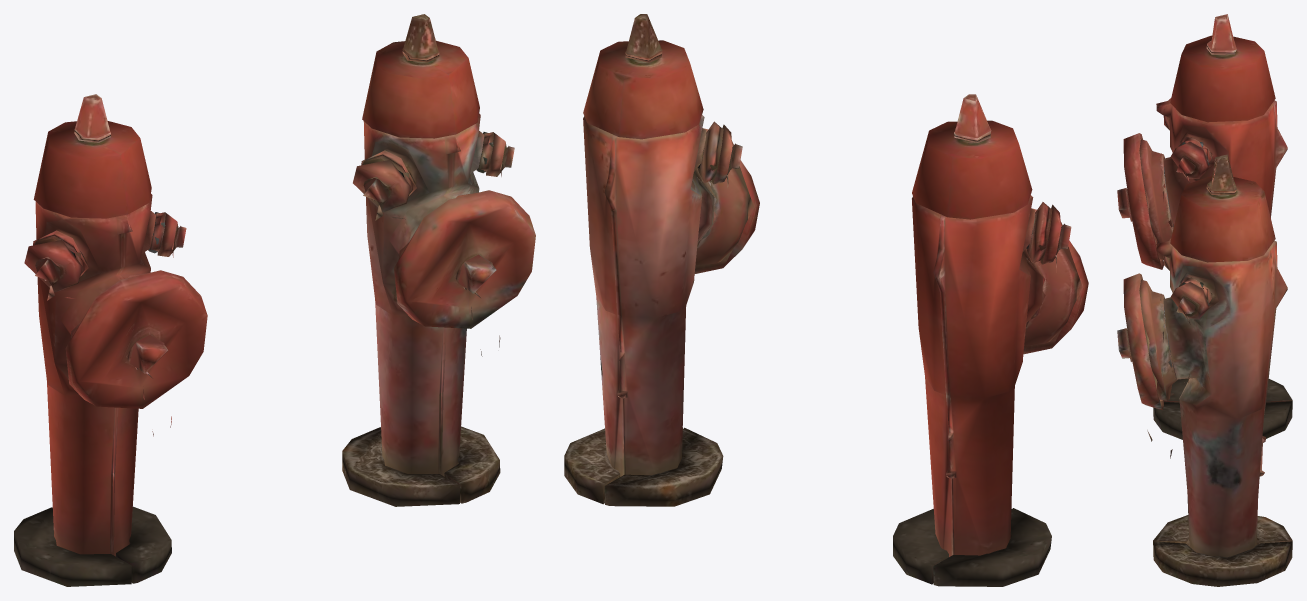
Rendered from m_fire_hydrant.604d8d5865.glb.
3 views of the same model, side by side, from view 1: azimuth 30°, elevation 25°; view 2: azimuth 150°, elevation 25°; view 3: azimuth 270°, elevation 25° (orthographic). The views are drawn at different scales.
Parts seen in each view (by area): view 1: fire_hydrant_aged, fire_hydrant; view 2: fire_hydrant_aged, fire_hydrant; view 3: fire_hydrant_aged, fire_hydrant.
Part boxes in pixels (x1,y1,x2,y2): fire_hydrant_aged: [342, 14, 535, 506]; fire_hydrant: [14, 94, 207, 586]; fire_hydrant_aged: [564, 14, 759, 506]; fire_hydrant: [893, 94, 1088, 586]; fire_hydrant_aged: [1117, 154, 1292, 586]; fire_hydrant: [1117, 14, 1292, 439].
Size of the model in its own units: 0.8728 by 0.7992 by 0.3173.
Materials: 2 (2 with a texture image).
